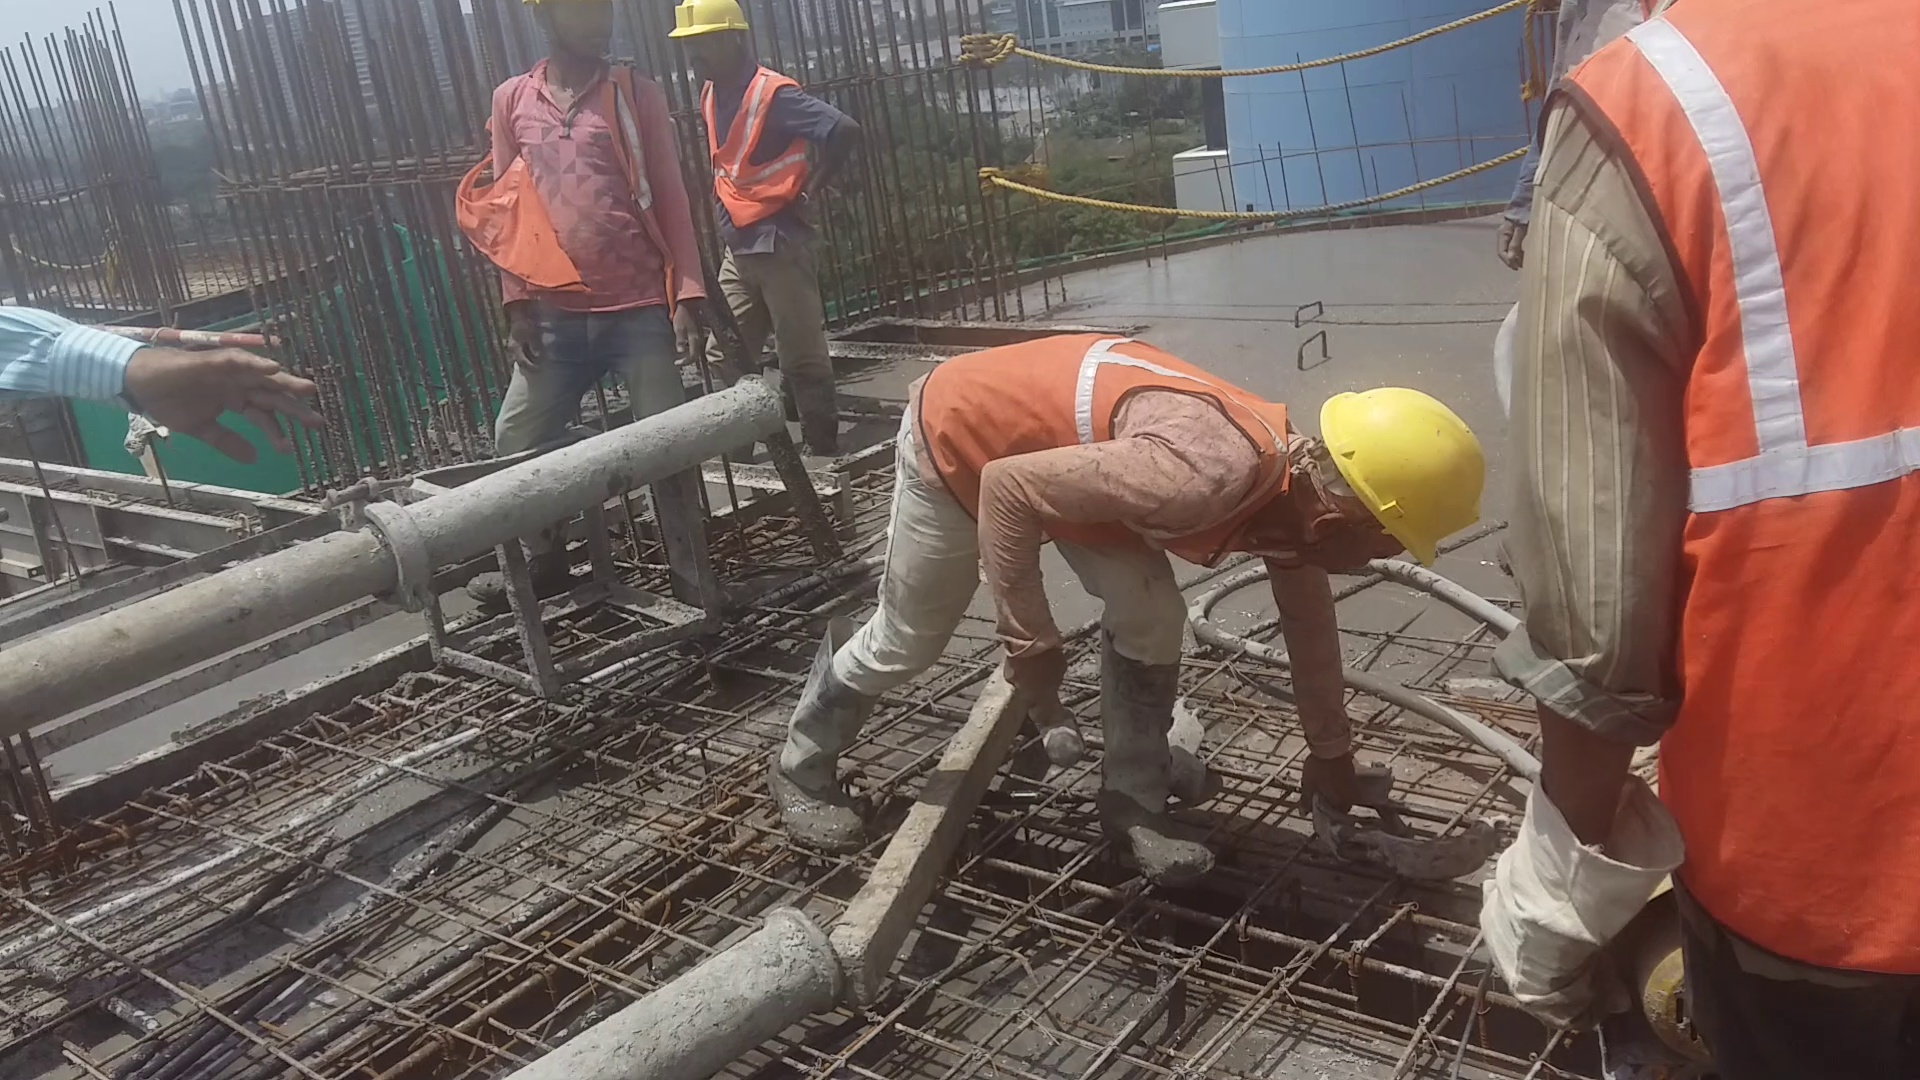SAFE: (920, 326, 1487, 568), (691, 3, 802, 237)
